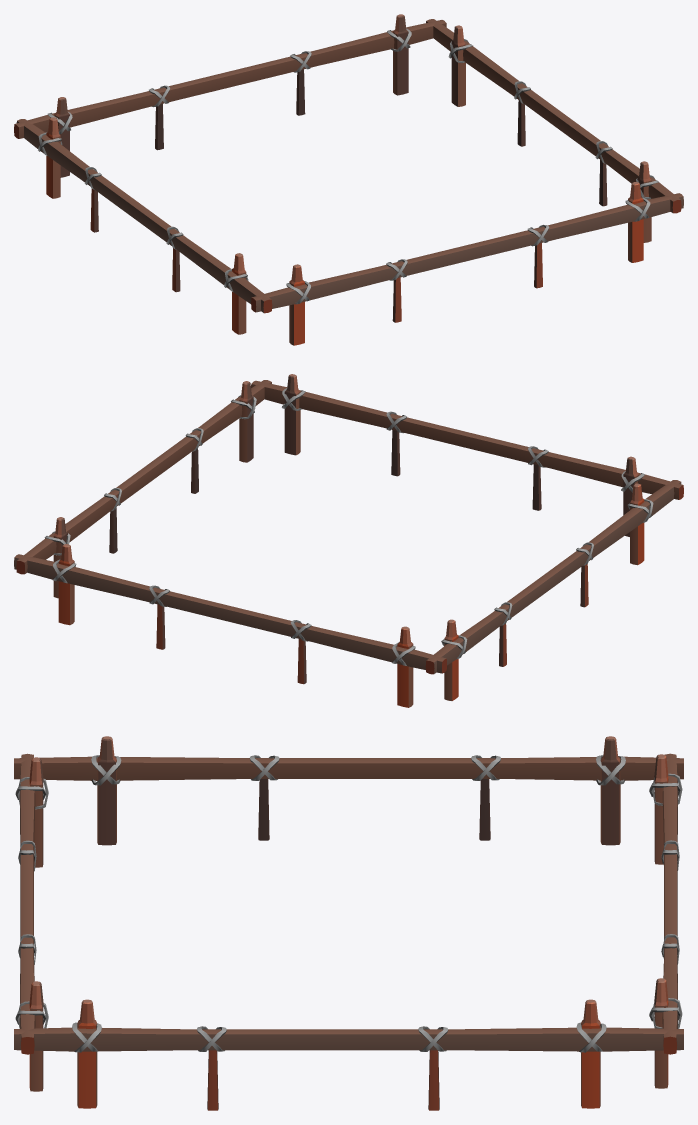
The model's file is Hang_rao.FBX.
3 views of the same model, one above another, from view 1: azimuth 30°, elevation 25°; view 2: azimuth 150°, elevation 25°; view 3: azimuth 270°, elevation 25° (orthographic). The views are drawn at different scales.
Parts seen in each view (by area): view 1: Hang_rao (×4); view 2: Hang_rao (×4); view 3: Hang_rao (×4).
Part boxes in pixels (box(x1,y1,x2,y2)): Hang_rao (×4): box(14, 14, 683, 345); Hang_rao (×4): box(14, 374, 683, 707); Hang_rao (×4): box(14, 736, 683, 1110).
Size of the model in its own units: 6 by 1.03 by 6.
